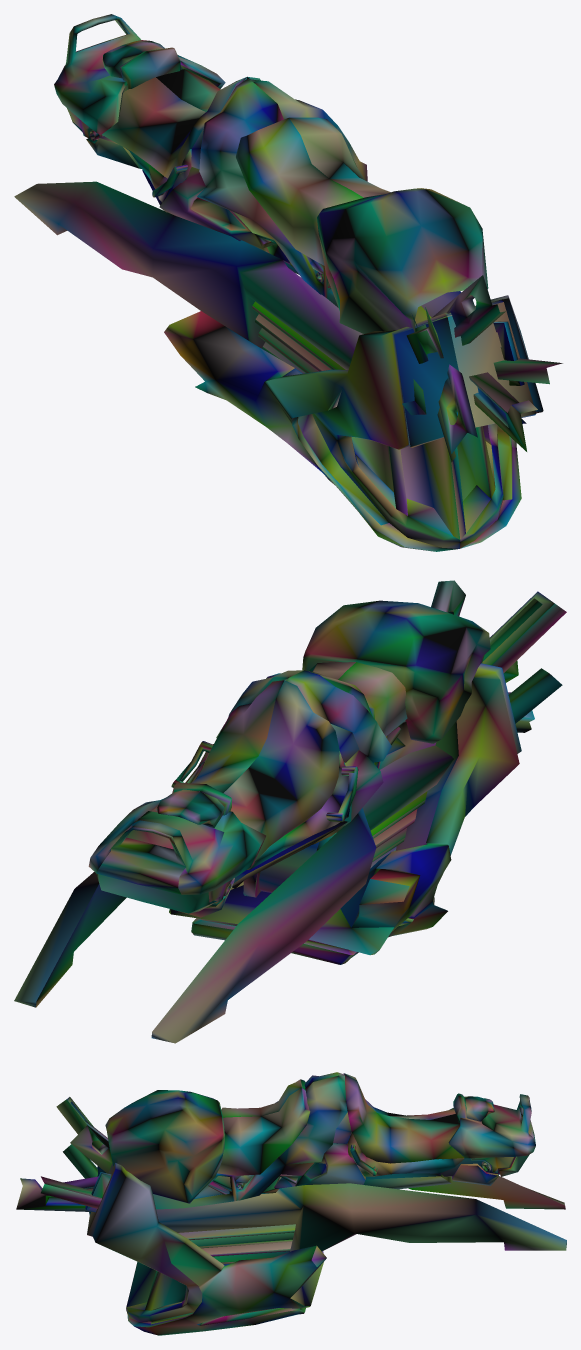
The model's file is ASE_GravCycle_Gib_Body.gltf.
3 renders of one model, top to bottom at view 1: azimuth 30°, elevation 25°; view 2: azimuth 150°, elevation 25°; view 3: azimuth 270°, elevation 25°, orthographic. The views are drawn at different scales.
Parts seen in each view (by area): view 1: ASE_GravCycle_Gib_Body; view 2: ASE_GravCycle_Gib_Body; view 3: ASE_GravCycle_Gib_Body.
Part boxes in pixels (bbox=[...]): ASE_GravCycle_Gib_Body: bbox=[14, 14, 562, 551]; ASE_GravCycle_Gib_Body: bbox=[14, 580, 566, 1043]; ASE_GravCycle_Gib_Body: bbox=[16, 1072, 566, 1335].
Size of the model in its own units: 0.5097 by 0.6731 by 1.46.
